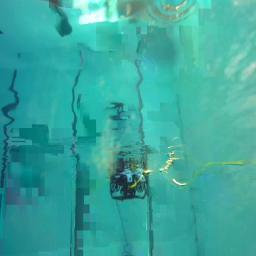back: (108, 172, 148, 200)
